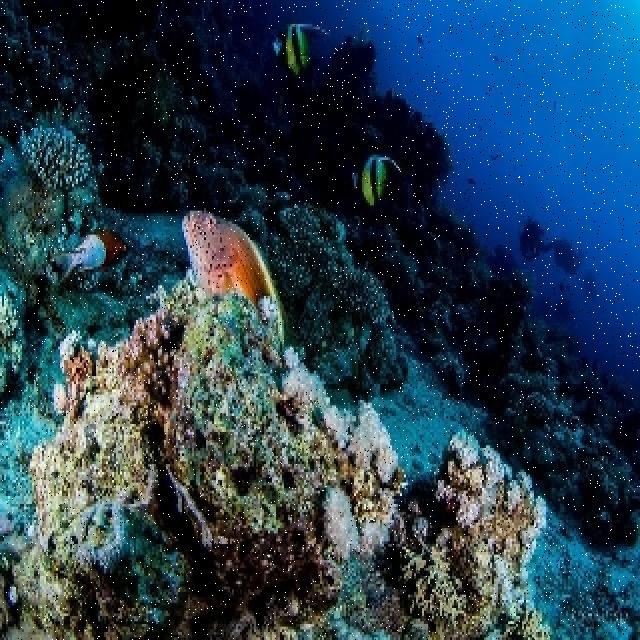fish: (273, 23, 398, 210), (181, 205, 278, 308), (46, 230, 128, 291)
reefs: (4, 268, 413, 637), (20, 120, 92, 191)
